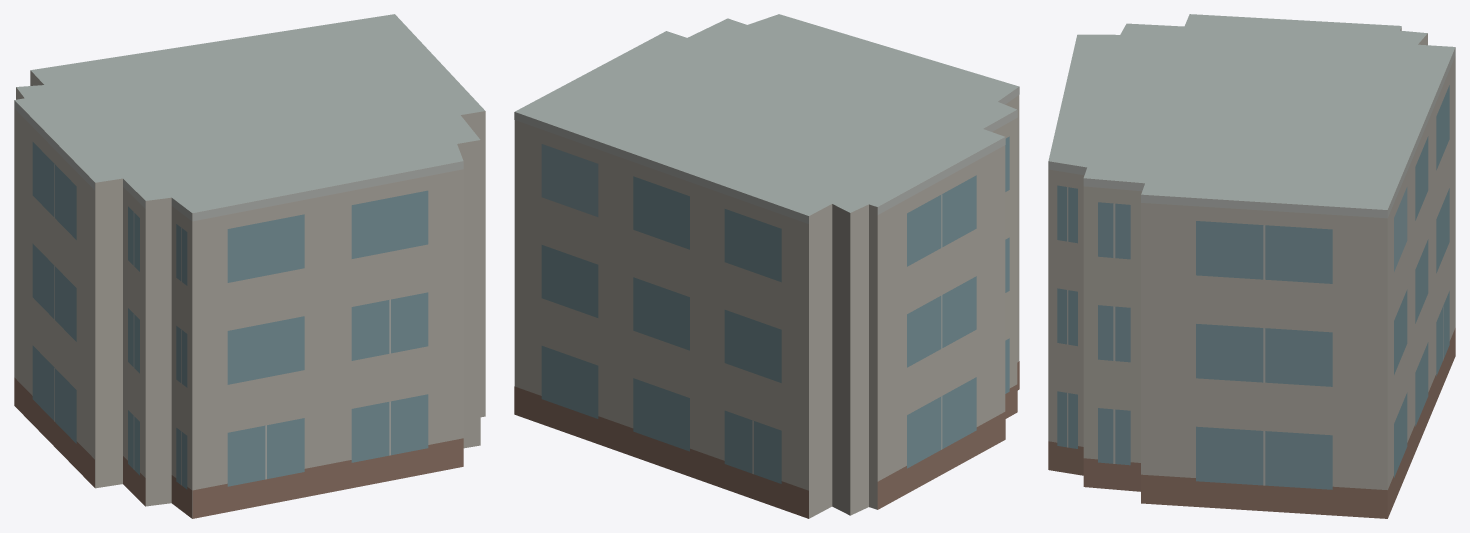
File: survey-upis-32652967.glb
The picture shows the model from 3 angles, left to right: view 1: azimuth 30°, elevation 25°; view 2: azimuth 150°, elevation 25°; view 3: azimuth 270°, elevation 25°; orthographic projection.
Parts seen in each view (by area): view 1: survey-upis-32652967.tmp; view 2: survey-upis-32652967.tmp; view 3: survey-upis-32652967.tmp.
Boxes of the visible parts, <box> form: survey-upis-32652967.tmp: <box>14,14,485,518</box>; survey-upis-32652967.tmp: <box>514,14,1019,518</box>; survey-upis-32652967.tmp: <box>1048,14,1455,518</box>.
Size of the model in its own units: 12.47 by 9.15 by 10.95.
